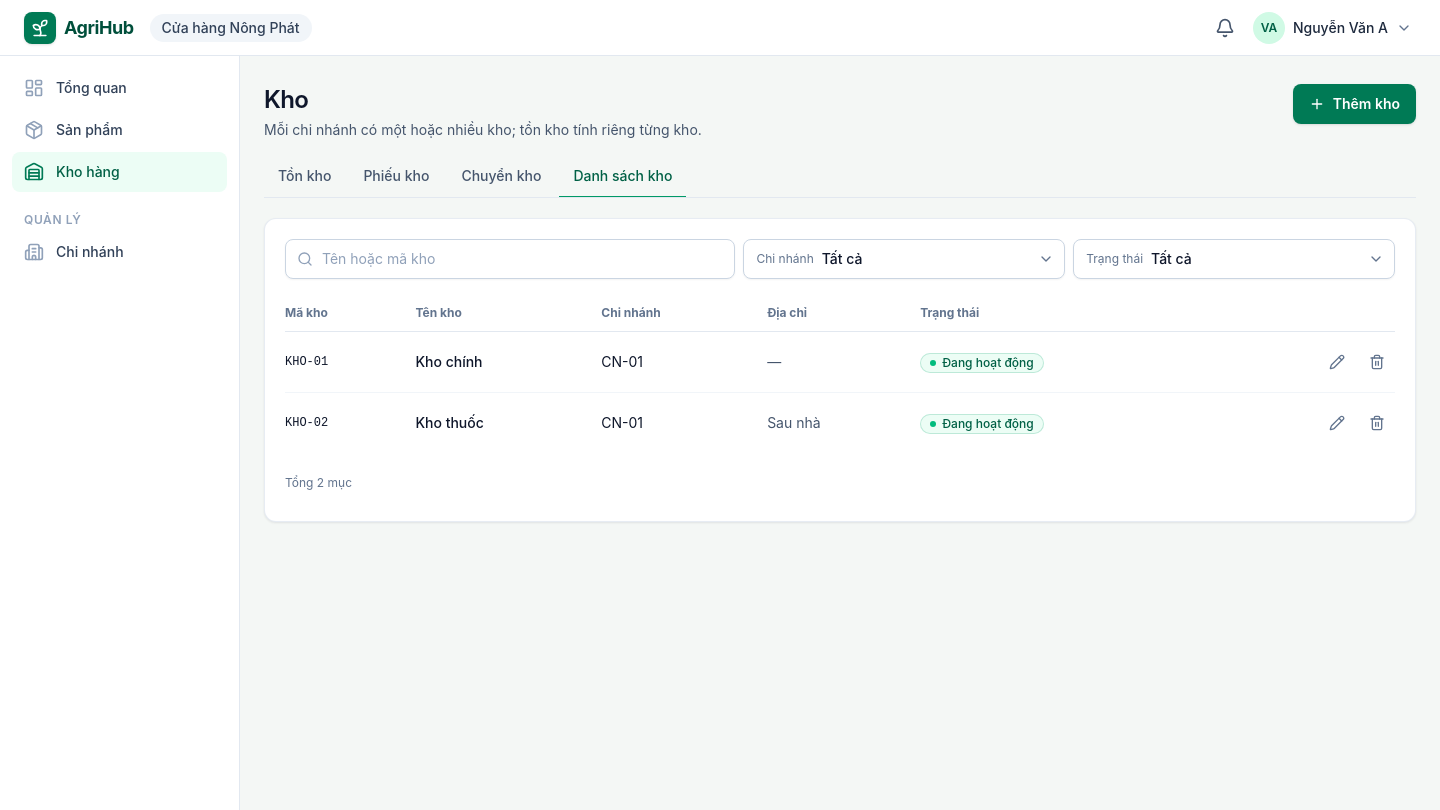
Test: danh sách kho › lỗi từ máy chủ hiện đúng ô (mã trùng)
Click the button "Thêm kho": (1354, 104) [1293, 84, 1416, 124]
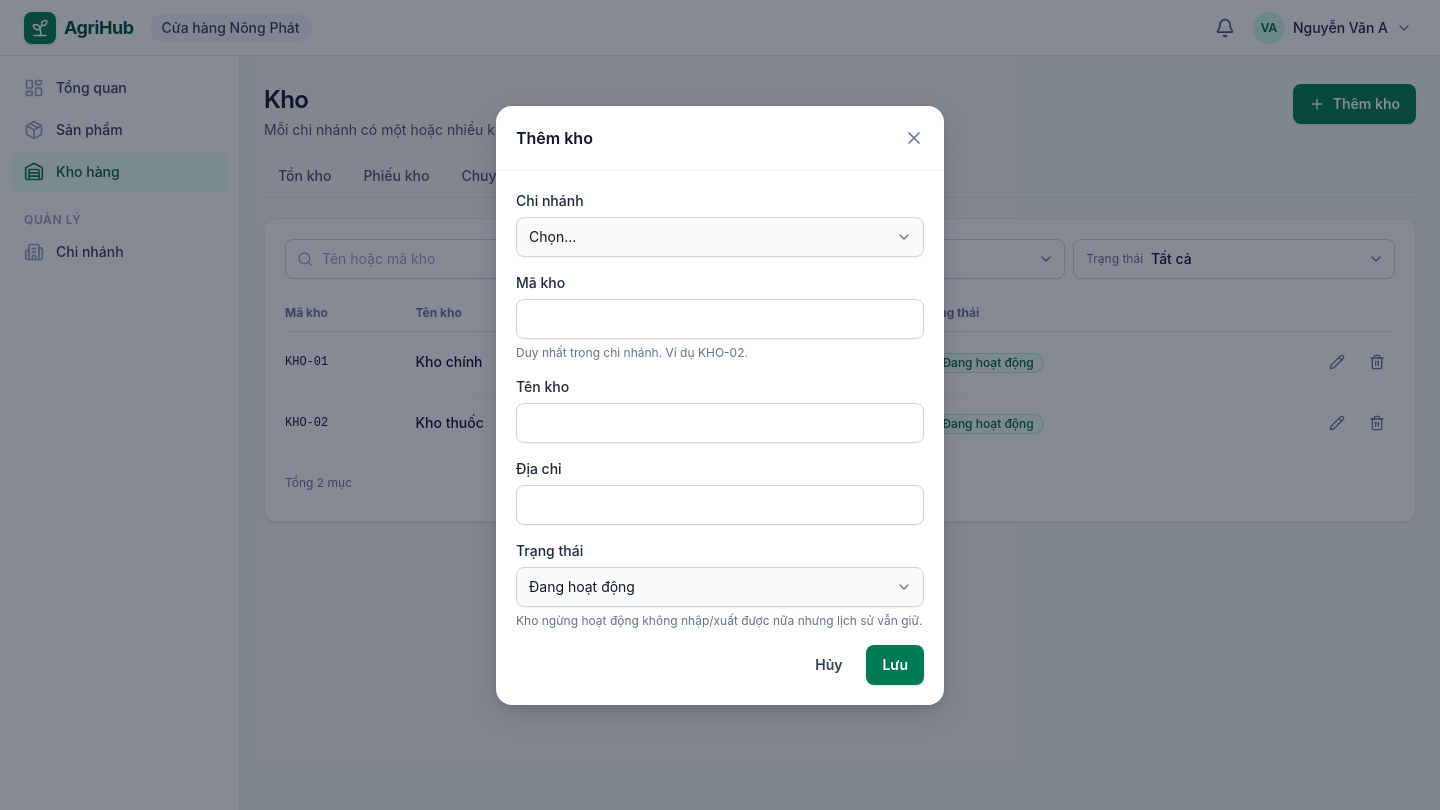
Select "CN-01 — Chi nhánh chính" in the dropdown labelled "Chi nhánh": (720, 236) [516, 216, 924, 256]
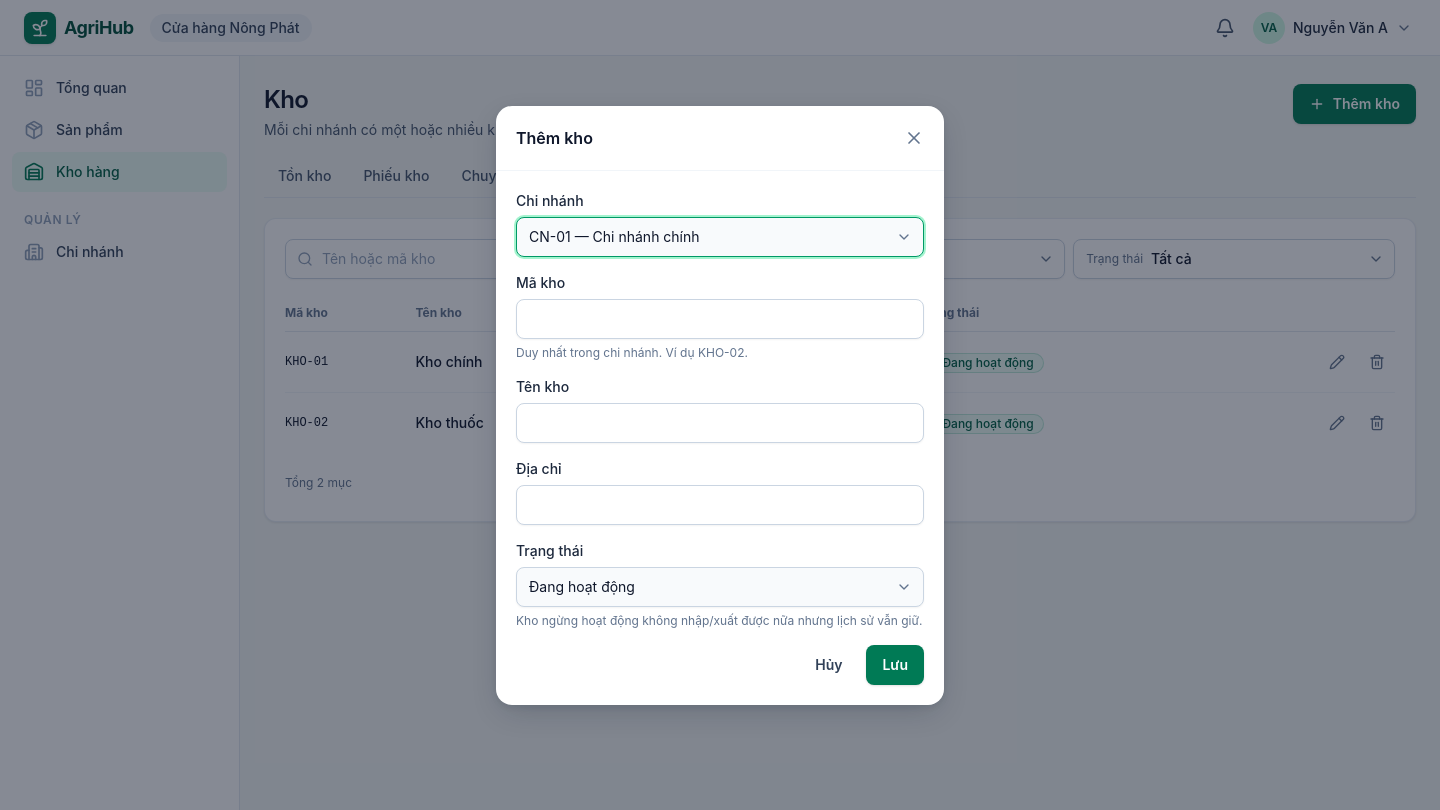
In the field labelled "Mã kho": (720, 318) [516, 298, 924, 338], type "KHO-01"
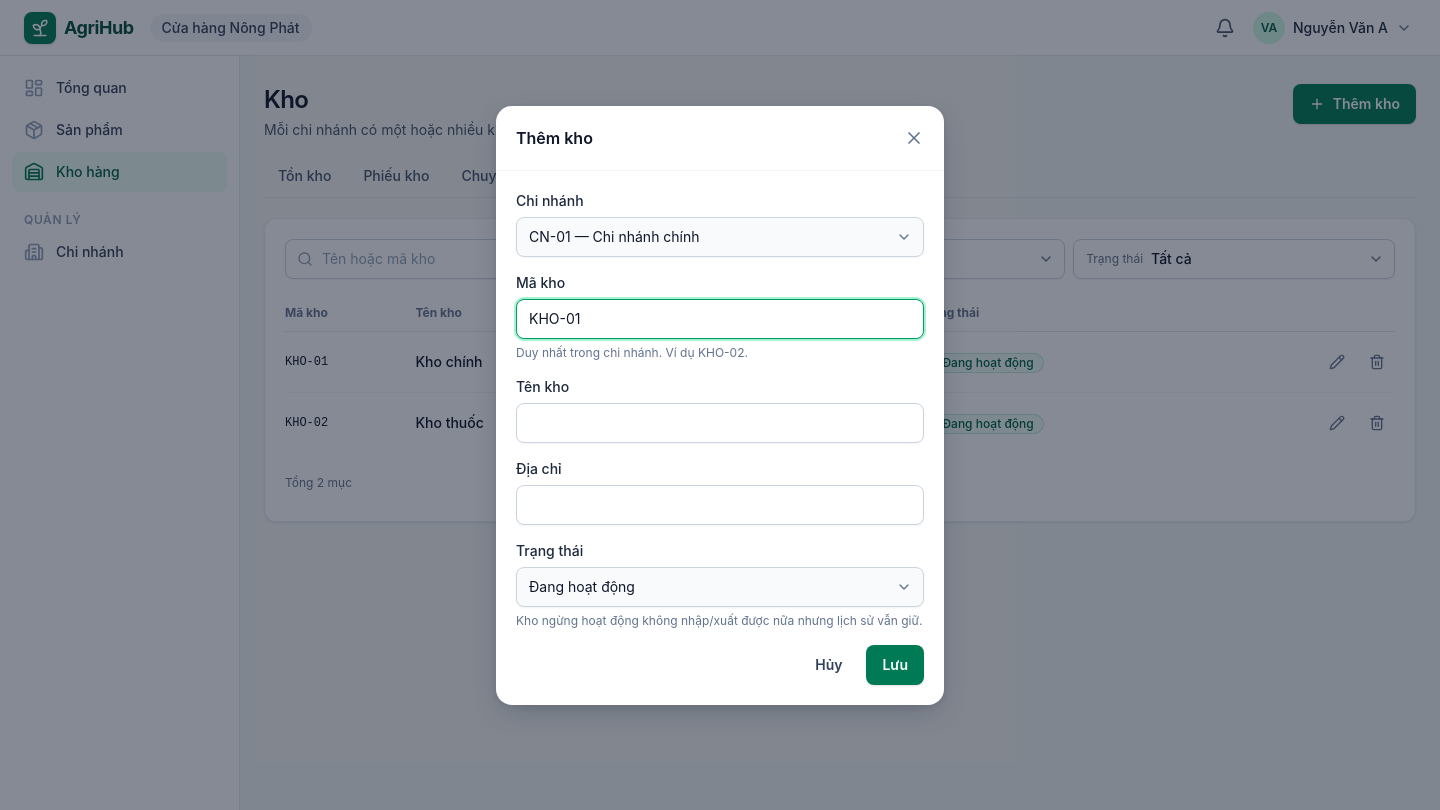
In the field labelled "Tên kho": (720, 422) [516, 402, 924, 442], type "Trùng"
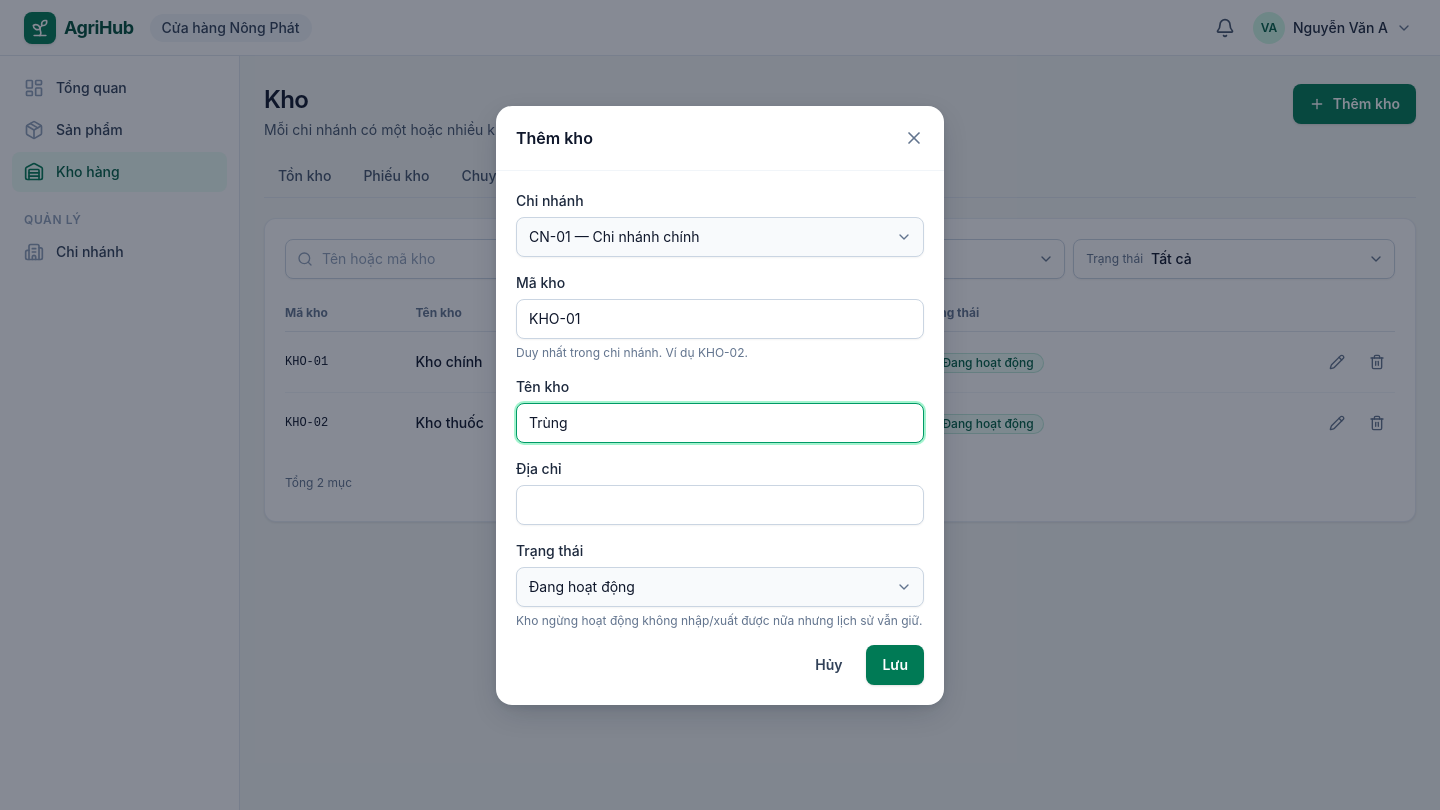
Click the button "Lưu": (895, 664) [866, 644, 924, 684]
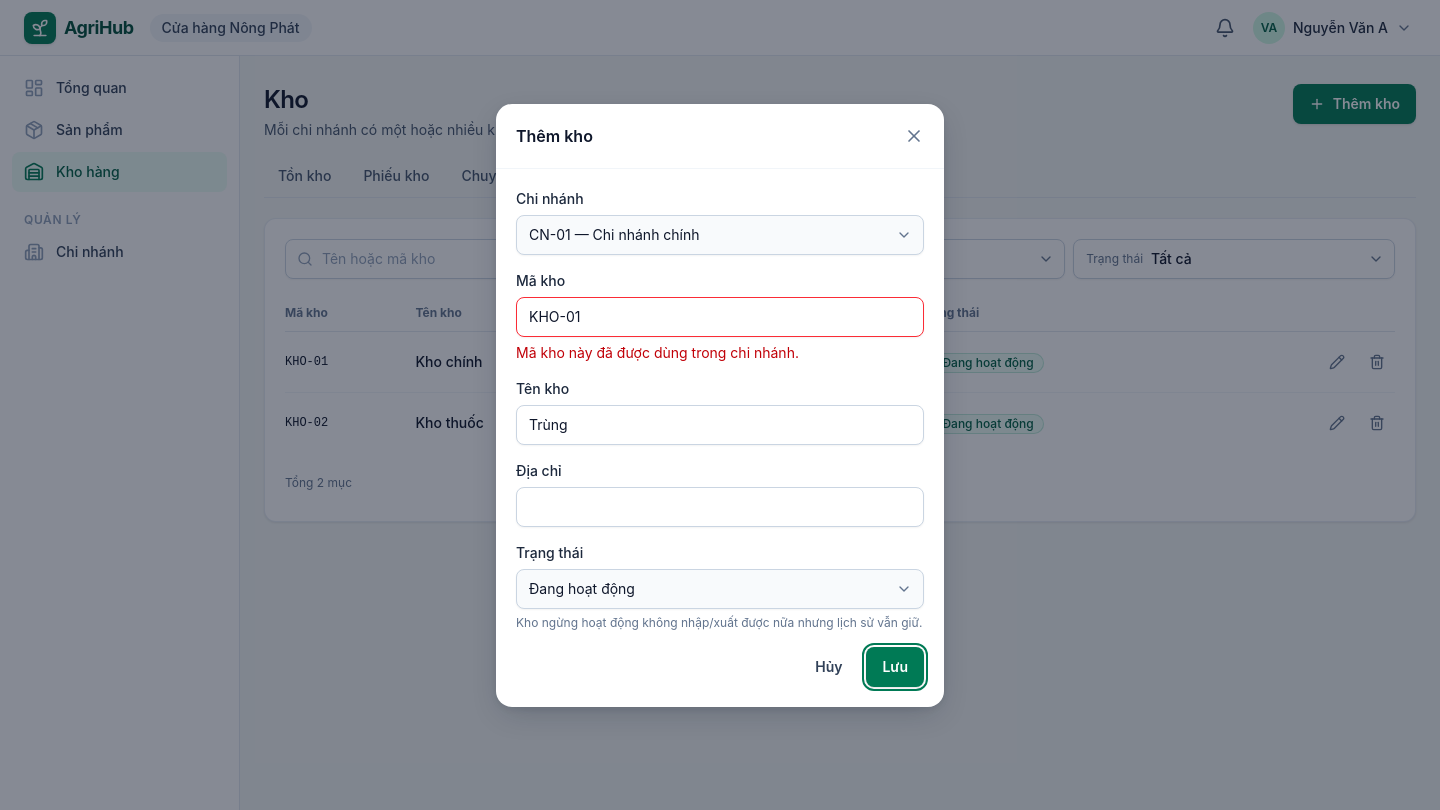
Result: the text "Mã kho này đã được dùng trong chi nhánh." is shown at [516, 344, 799, 360]
